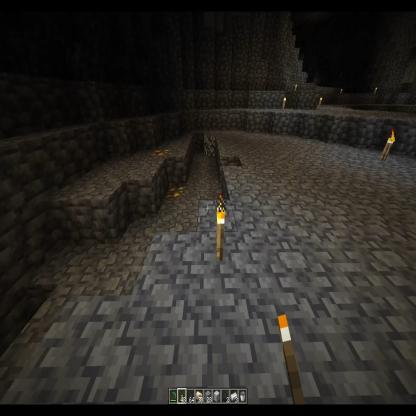gold ore: (163, 182, 185, 203), (150, 146, 171, 160)
